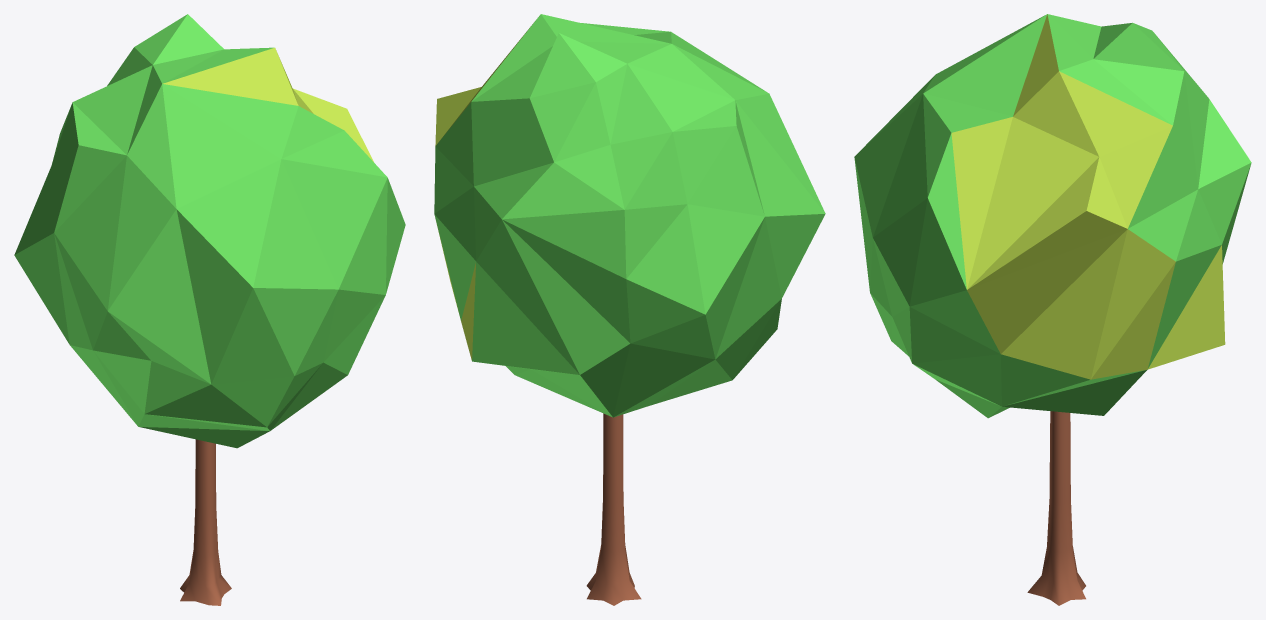
Rendered from tree_5.glb.
3 views of the same model, side by side, from view 1: azimuth 30°, elevation 25°; view 2: azimuth 150°, elevation 25°; view 3: azimuth 270°, elevation 25° (orthographic). The views are drawn at different scales.
Parts seen in each view (by area): view 1: Icosphere.000; view 2: Icosphere.000; view 3: Icosphere.000.
Boxes of the visible parts, x1,y1,x2,y2 form: Icosphere.000: [14, 14, 405, 605]; Icosphere.000: [434, 14, 825, 605]; Icosphere.000: [854, 14, 1251, 605].
Bounding box in the file's own units: 2.01 × 3.46 × 2.16.
